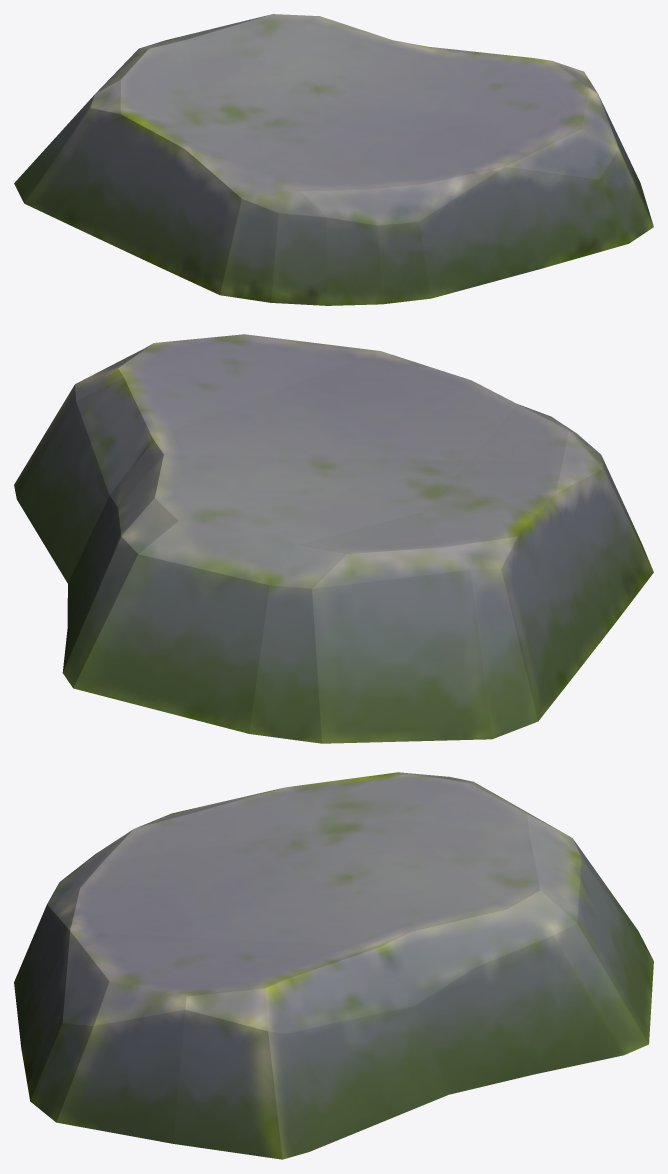
File: Pebble_Round_2.gltf
3 views of the same model, one above another, from view 1: azimuth 30°, elevation 25°; view 2: azimuth 150°, elevation 25°; view 3: azimuth 270°, elevation 25° (orthographic). The views are drawn at different scales.
Visible parts, largest first — view 1: Pebble_Round_2; view 2: Pebble_Round_2; view 3: Pebble_Round_2.
Part boxes in pixels (box(x1,y1,x2,y2)): Pebble_Round_2: box(14, 14, 653, 305); Pebble_Round_2: box(14, 334, 653, 743); Pebble_Round_2: box(14, 772, 653, 1159).
Bounding box in the file's own units: 0.4495 × 0.0942 × 0.4111.
Materials: 1 (1 with a texture image).
